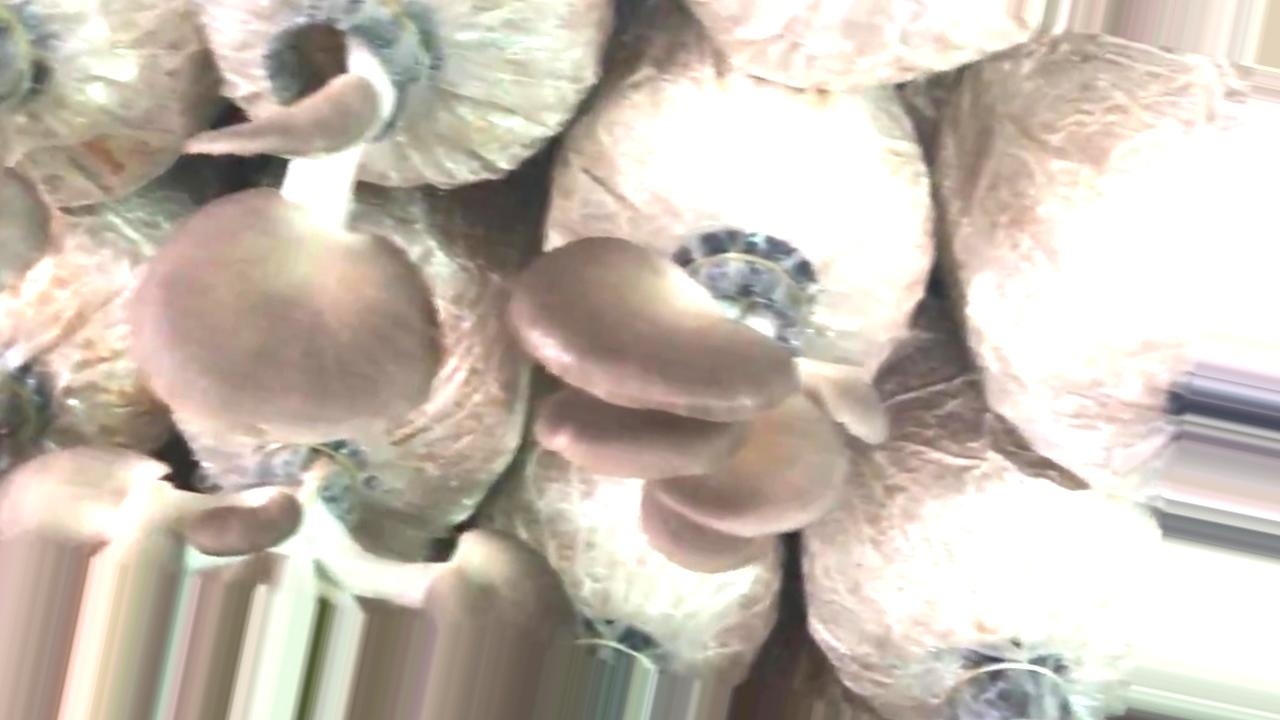nam: (1, 448, 574, 720), (125, 1, 455, 456), (505, 232, 898, 577)
